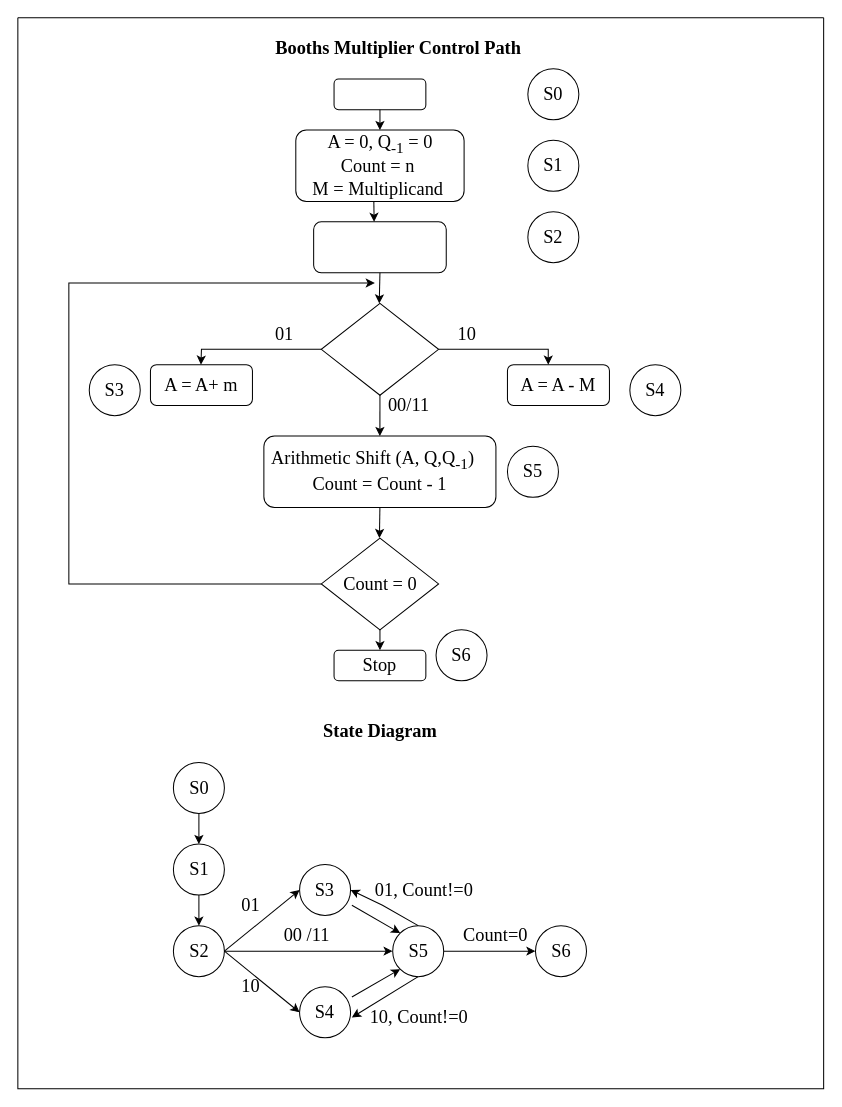
The diagram is 842 pixels wide and 1107 high, and some of its shapes have lost their labels. The shapes that lost their labels are listed below. From the top down, each one's box as (x1, y1, x2, y2) in pixels, then its label:
(333, 78, 426, 110): Start
(313, 221, 446, 273): Q = Multiplier
(320, 302, 439, 395): Q 0 Q -1
